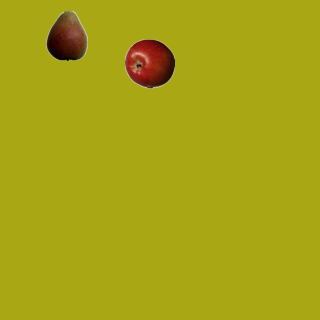Apple Braeburn: (124, 38, 174, 88)
Pear Forelle: (41, 10, 91, 60)
